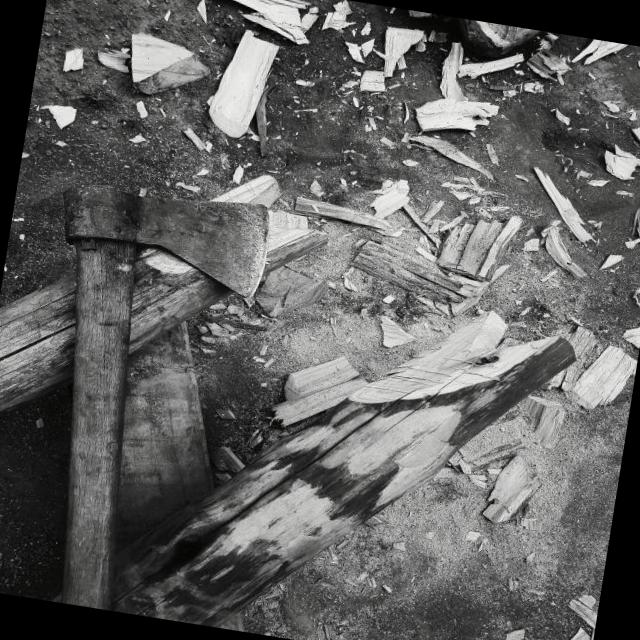Axe: (61, 187, 269, 610)
